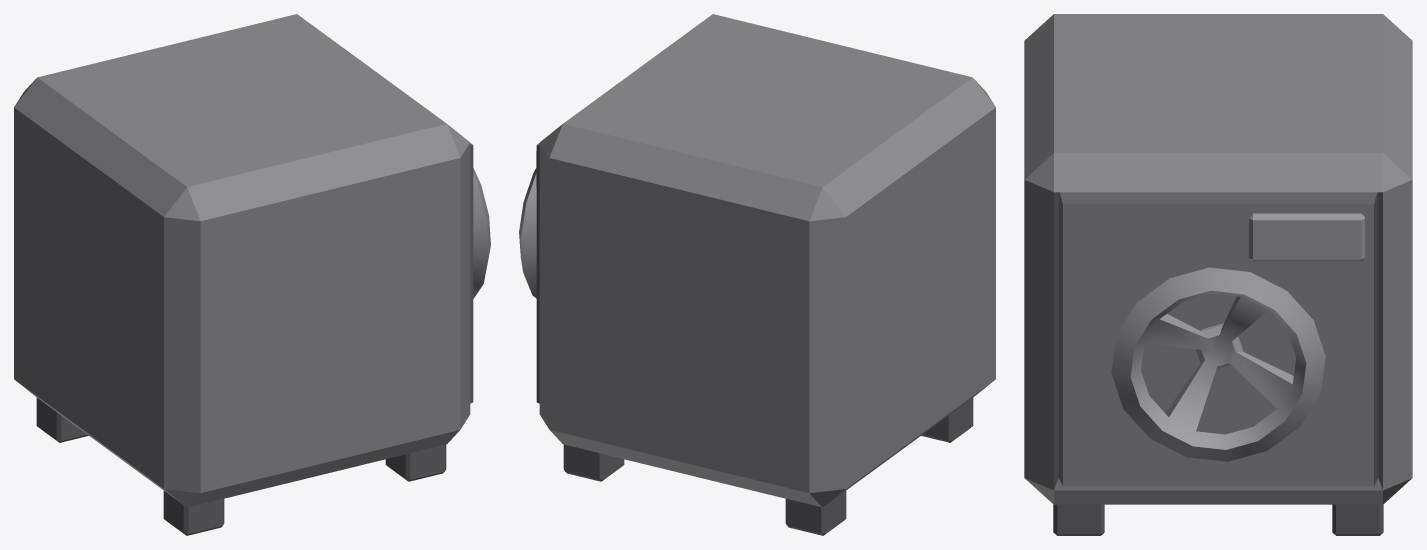
Rendered from safe.fbx.
3 renders of one model, left to right at view 1: azimuth 30°, elevation 25°; view 2: azimuth 150°, elevation 25°; view 3: azimuth 270°, elevation 25°, orthographic. The views are drawn at different scales.
Parts seen in each view (by area): view 1: safe; view 2: safe; view 3: safe.
Boxes of the visible parts, <box> form: safe: <box>14,14,490,535</box>; safe: <box>519,14,995,535</box>; safe: <box>1024,14,1412,535</box>.
Size of the model in its own units: 47.05 by 43.5 by 39.82.
Materials: 1 (1 with a texture image).
